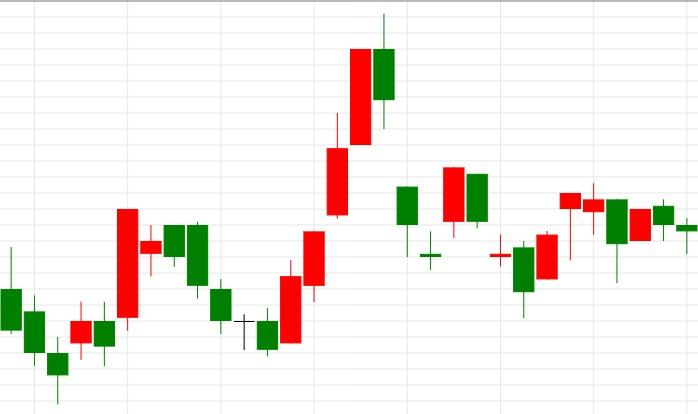hanging_man_fall: (512, 193, 582, 318)
